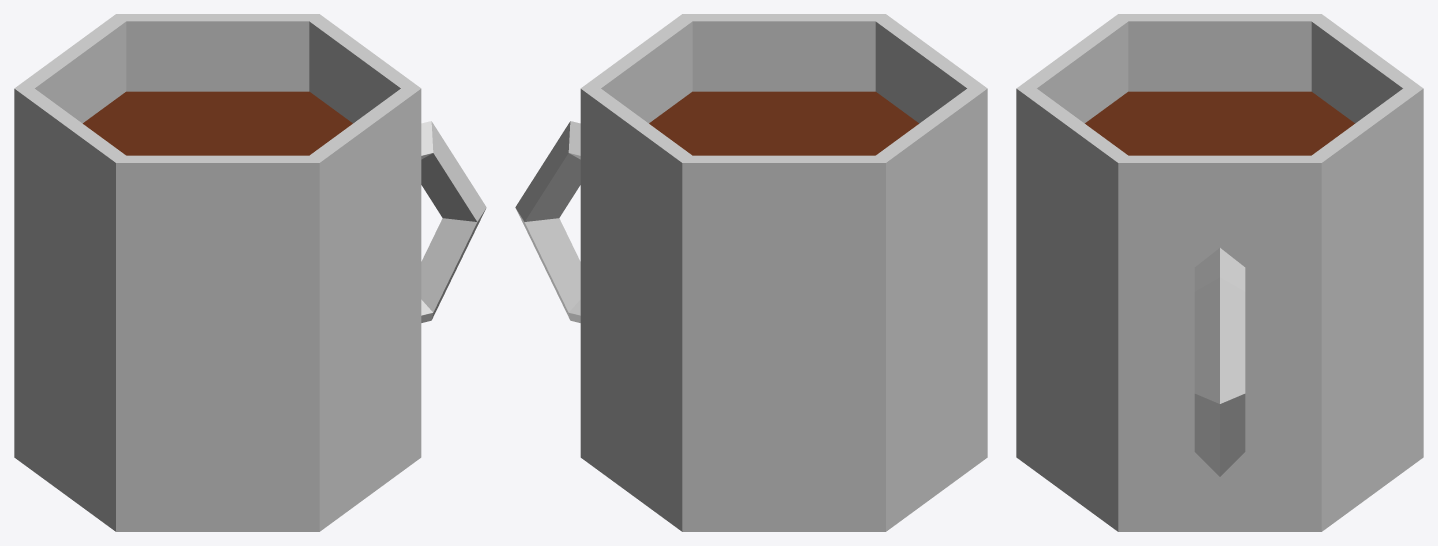
The model's file is Cup3Chocolate.fbx.
3 renders of one model, left to right at view 1: azimuth 30°, elevation 25°; view 2: azimuth 150°, elevation 25°; view 3: azimuth 270°, elevation 25°, orthographic.
Parts seen in each view (by area): view 1: Cylinder; view 2: Cylinder; view 3: Cylinder.
Part boxes in pixels (left/top/right/bottom): Cylinder: left=14, top=14, right=486, bottom=531; Cylinder: left=515, top=14, right=987, bottom=531; Cylinder: left=1016, top=14, right=1423, bottom=531.
Size of the model in its own units: 0.263 by 0.22 by 0.22.
